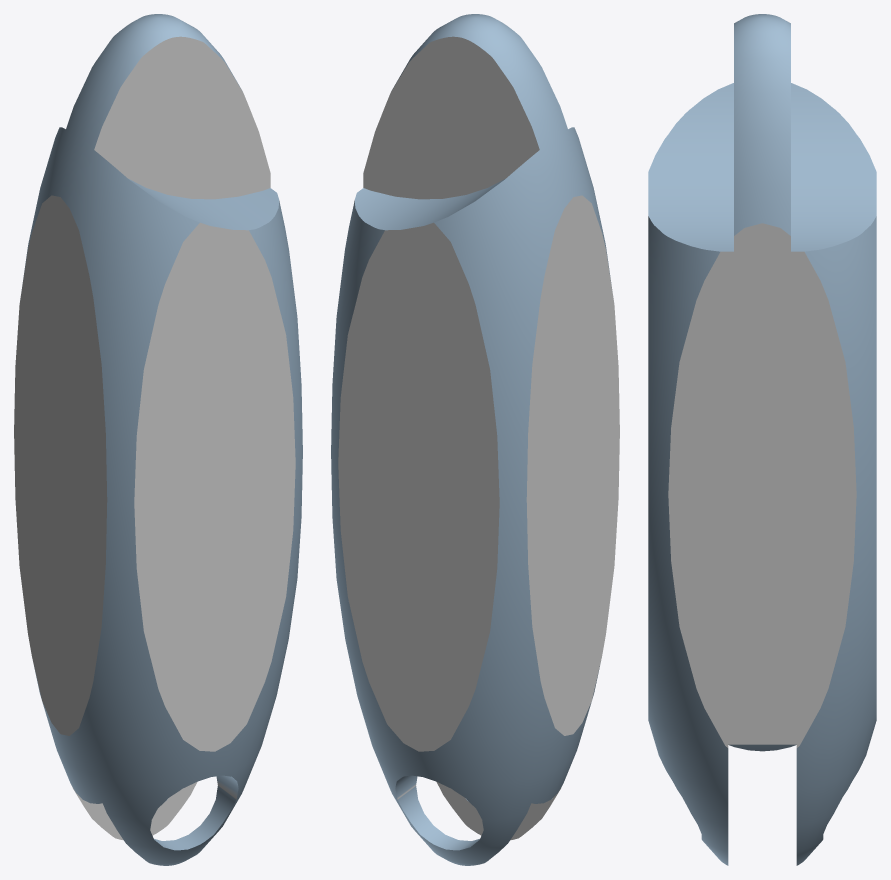
The model's file is phalange10x3.glb.
3 views of the same model, side by side, from view 1: azimuth 30°, elevation 25°; view 2: azimuth 150°, elevation 25°; view 3: azimuth 270°, elevation 25° (orthographic).
Bounding box in the file's own units: 0.3 × 1.22 × 0.3.
